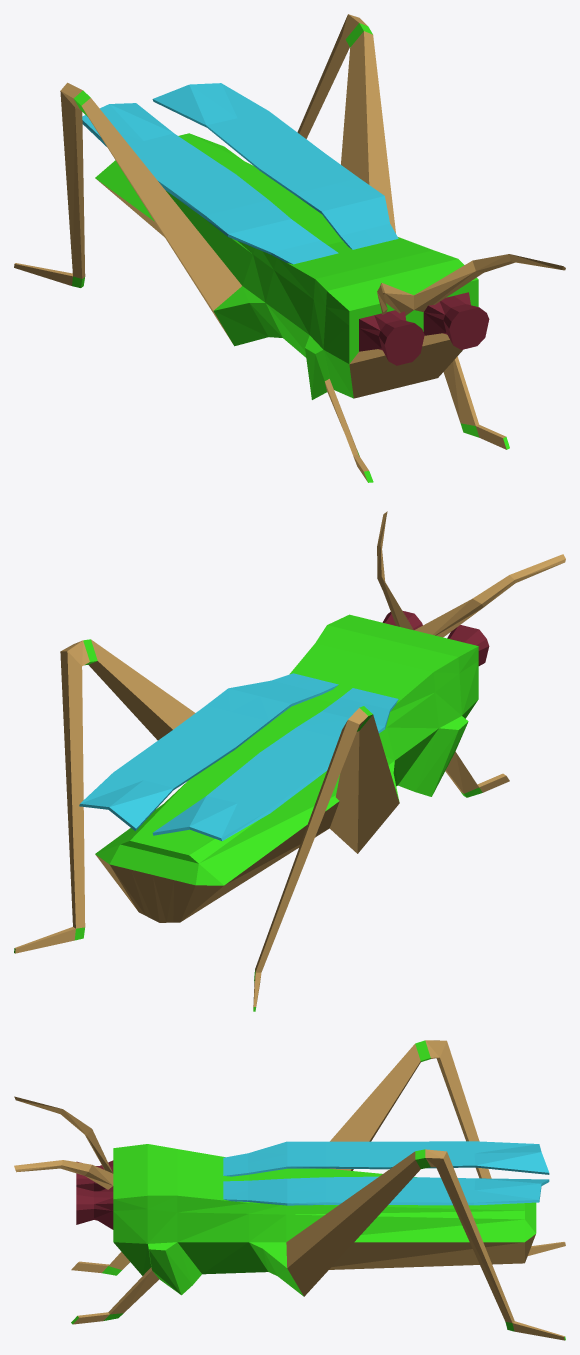
Rendered from Locust.dae.
The picture shows the model from 3 angles, top to bottom: view 1: azimuth 30°, elevation 25°; view 2: azimuth 150°, elevation 25°; view 3: azimuth 270°, elevation 25°; orthographic projection. The views are drawn at different scales.
Visible parts, largest first — view 1: Locust, LocustWingLeft, LocustWingRight; view 2: Locust, LocustWingLeft, LocustWingRight; view 3: Locust, LocustWingRight, LocustWingLeft.
Part boxes in pixels (bbox=[...]): Locust: bbox=[14, 14, 565, 482]; LocustWingLeft: bbox=[152, 83, 398, 249]; LocustWingRight: bbox=[82, 103, 338, 264]; Locust: bbox=[14, 511, 565, 1011]; LocustWingLeft: bbox=[79, 673, 338, 831]; LocustWingRight: bbox=[152, 688, 398, 840]; Locust: bbox=[14, 1040, 565, 1340]; LocustWingRight: bbox=[223, 1141, 549, 1176]; LocustWingLeft: bbox=[223, 1176, 549, 1205].
Size of the model in its own units: 1.36 by 2.68 by 1.08.
